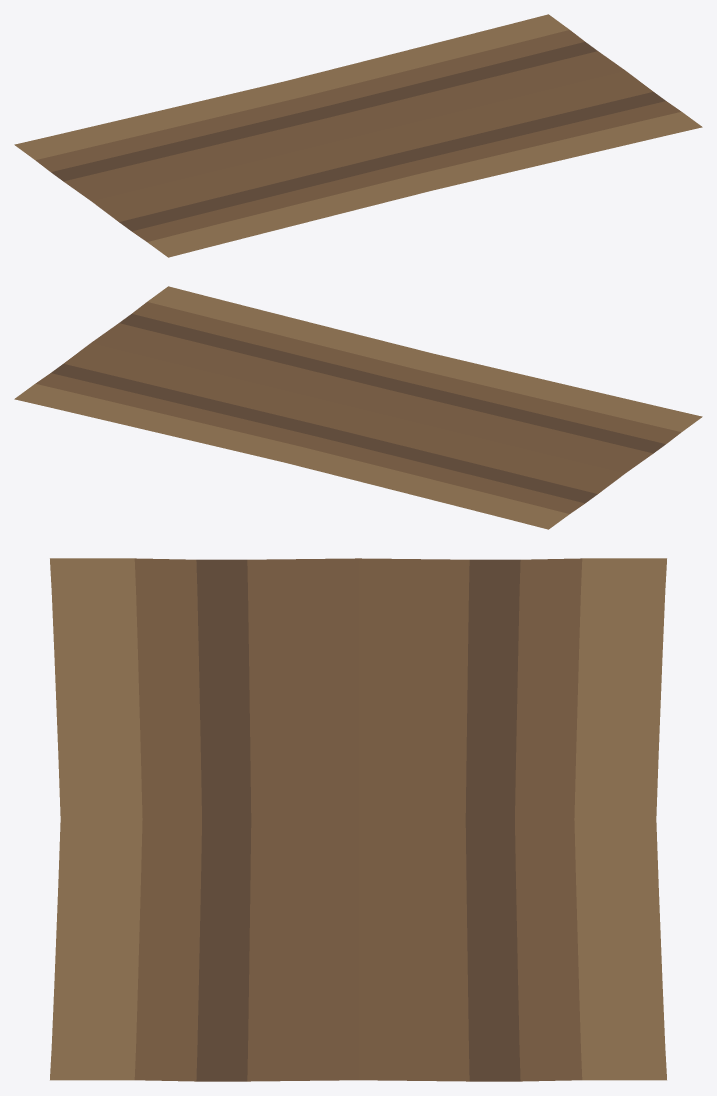
Rendered from lwf_vehicle_track_straight_8x4m_v1.glb.
The picture shows the model from 3 angles, top to bottom: view 1: azimuth 30°, elevation 25°; view 2: azimuth 150°, elevation 25°; view 3: azimuth 270°, elevation 25°; orthographic projection. The views are drawn at different scales.
Visible parts, largest first — view 1: lwf_vehicle_track_straight_8x4m_v1; view 2: lwf_vehicle_track_straight_8x4m_v1; view 3: lwf_vehicle_track_straight_8x4m_v1.
Part boxes in pixels (x1,y1,x2,y2): lwf_vehicle_track_straight_8x4m_v1: (14,14,702,257); lwf_vehicle_track_straight_8x4m_v1: (14,286,702,529); lwf_vehicle_track_straight_8x4m_v1: (50,558,666,1081).
Size of the model in its own units: 8 by 0.009 by 4.
Materials: 1 (1 with a texture image).
